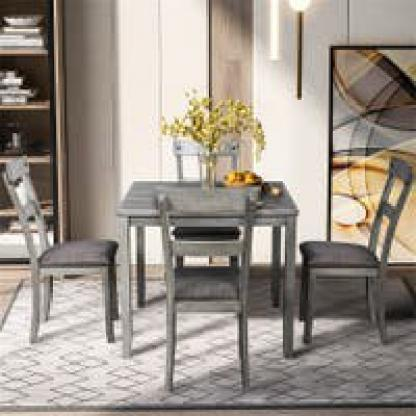chair: (298, 147, 416, 354), (149, 183, 256, 398), (4, 150, 121, 344), (167, 127, 250, 262)
table: (104, 170, 298, 355)
